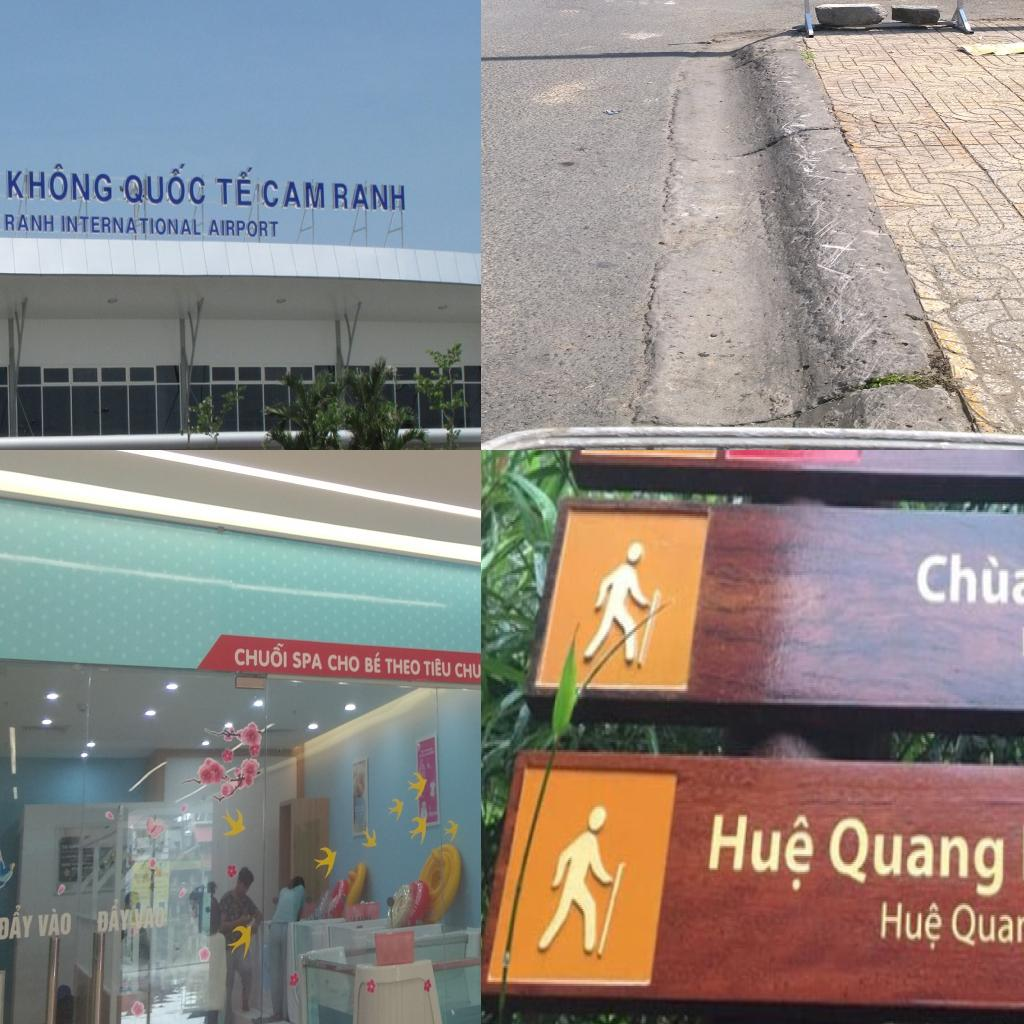text: (824, 815, 1013, 903), (705, 807, 817, 909), (913, 545, 1024, 610), (7, 159, 115, 204), (60, 207, 204, 239), (122, 160, 207, 208), (876, 900, 946, 956), (950, 905, 1024, 956), (333, 174, 411, 216), (262, 171, 330, 214), (212, 160, 256, 210), (231, 641, 290, 668), (6, 207, 57, 234), (0, 901, 33, 942), (35, 904, 75, 936), (95, 898, 130, 934), (131, 898, 167, 932), (386, 651, 421, 677), (292, 646, 323, 673), (327, 651, 361, 675), (420, 656, 451, 682), (453, 656, 481, 683), (362, 649, 384, 675)
